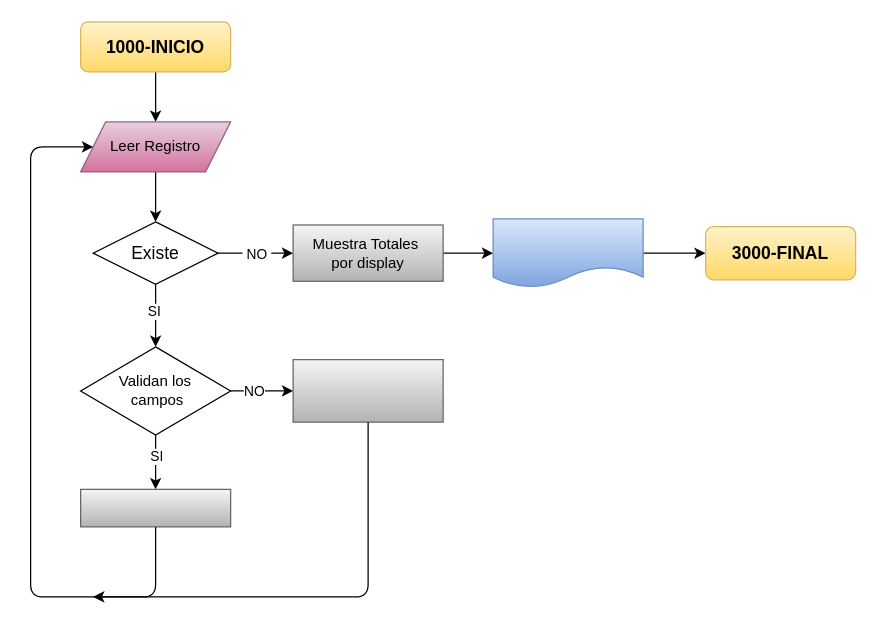
Image size: 878x629. Some labels were removed from this diagram. Here are the shapes that lost their labels. From the top down, the centre of each, then its label:
the point at 567,253: Imprime los registros OK
the point at 367,390: Muestra error por display
the point at 155,507: Grabar Registro
